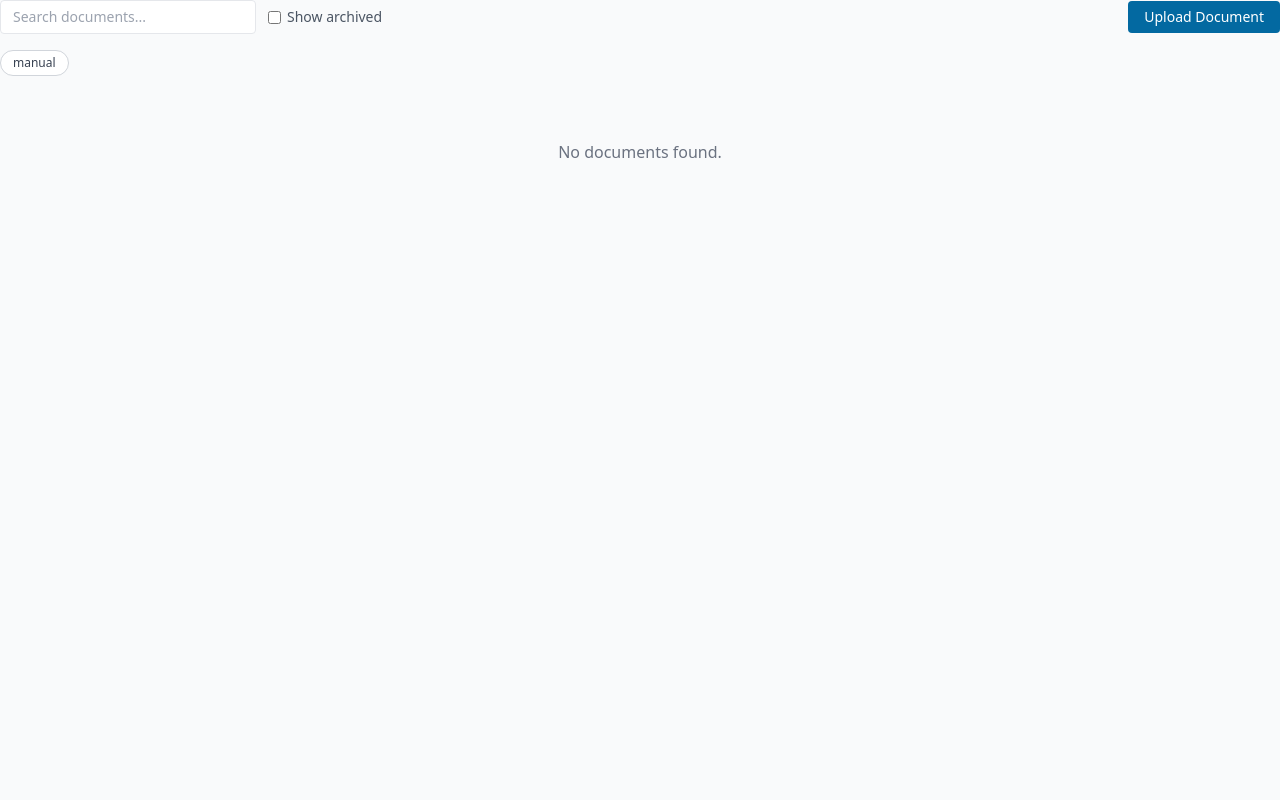
Test case: upload modal offers both device and URL sources
Check: the text "No documents found." is shown, box [558,141,722,163]
Click the button "Upload Document" at (1204, 17), box [1128,1,1279,33]
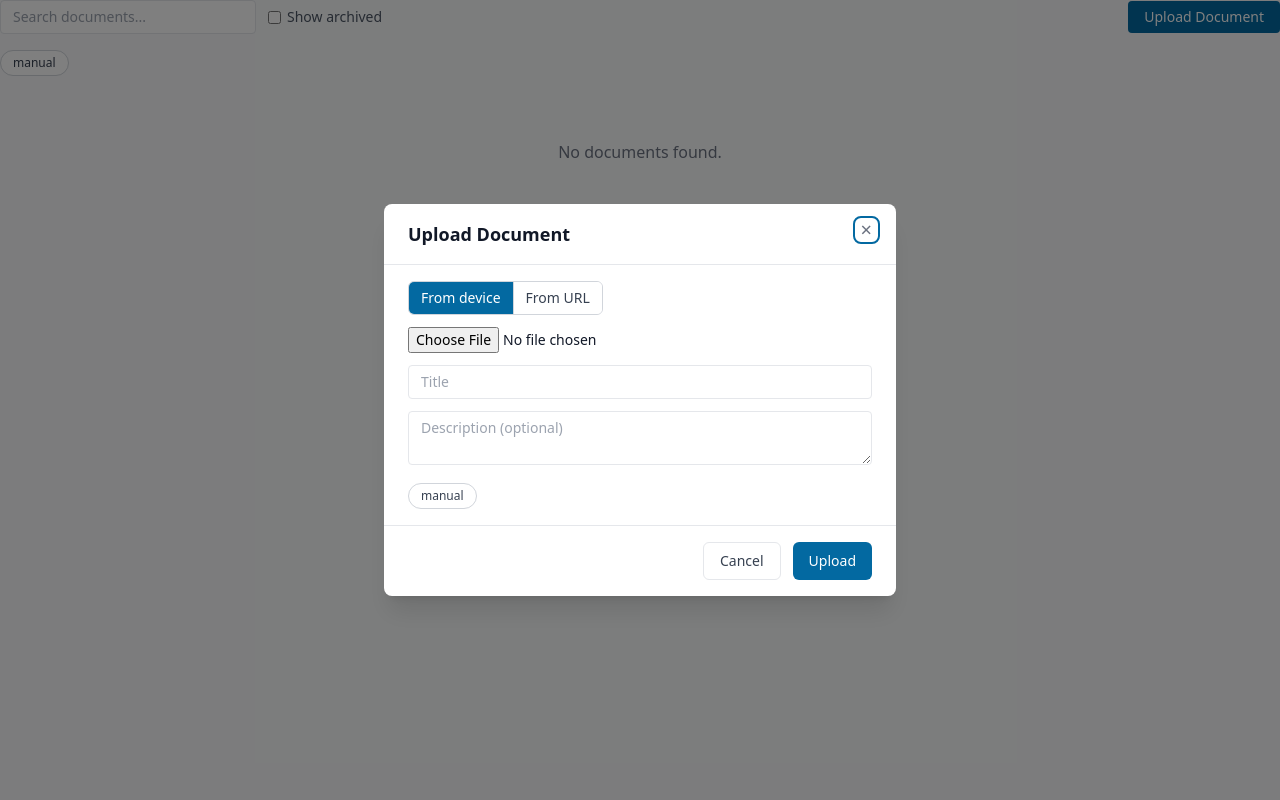
Check: the button "From device" is shown, box [409,282,512,314]
Check: the button "From URL" is shown, box [512,282,602,314]
